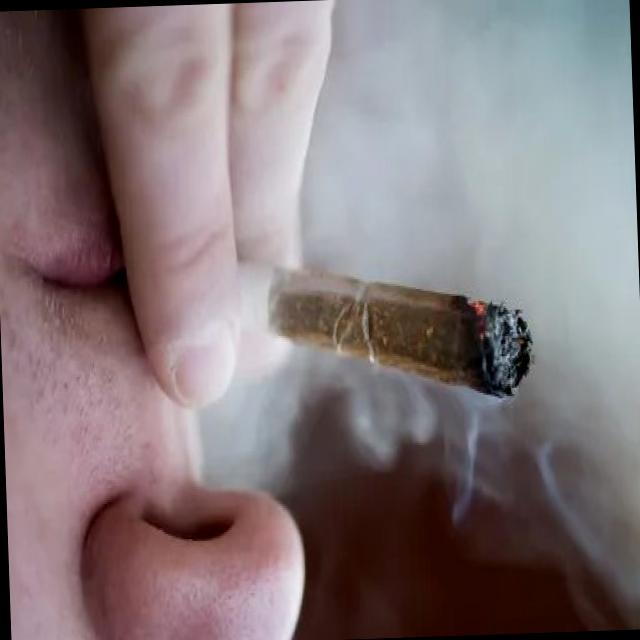cigarette: (229, 223, 535, 421)
